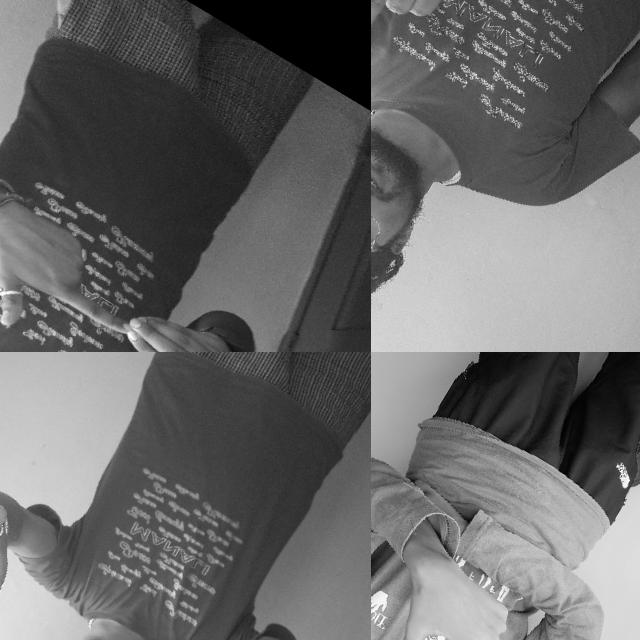Corna: (0, 436, 64, 640)
Five Fathers: (0, 173, 268, 352)
Middle Finger: (371, 0, 490, 93)
Thumbs Up: (371, 520, 554, 640)
